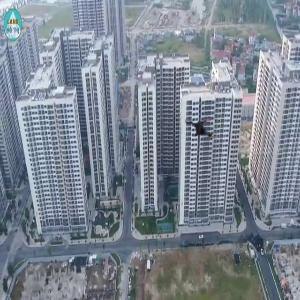drone: (184, 111, 221, 148)
